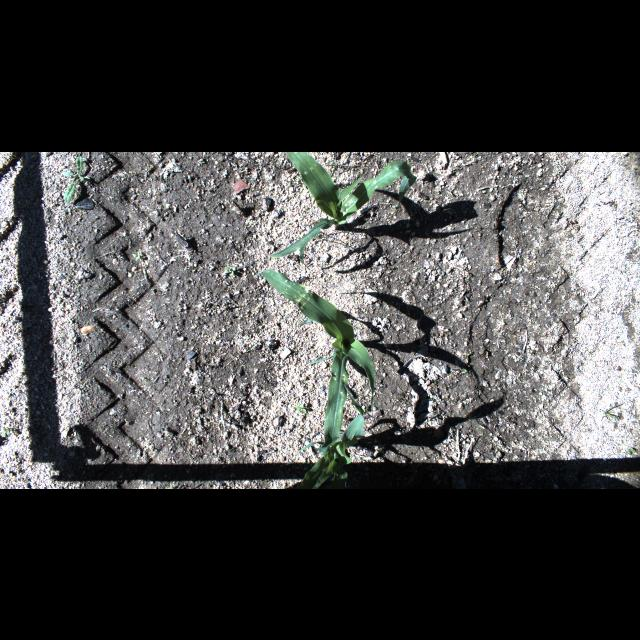crop: (262, 268, 376, 438), (270, 152, 414, 255), (294, 428, 360, 488)
weed: (66, 156, 88, 202), (225, 264, 233, 276), (1, 427, 10, 437), (626, 446, 636, 454), (294, 406, 306, 412), (133, 249, 139, 261), (605, 412, 615, 418), (466, 349, 472, 356), (462, 367, 468, 373), (166, 486, 174, 488)
